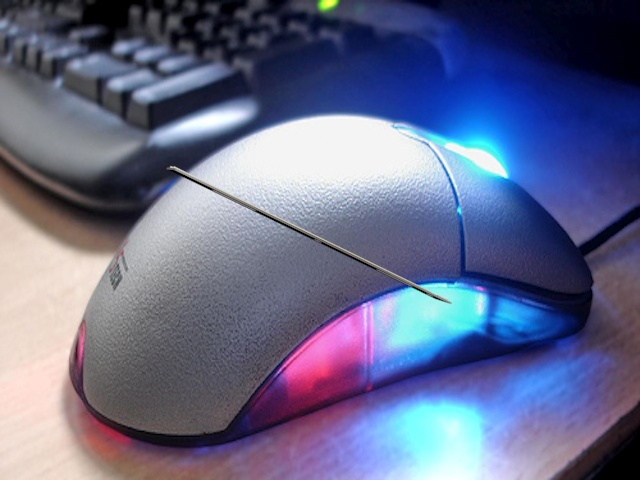ruler: (161, 161, 456, 312)
